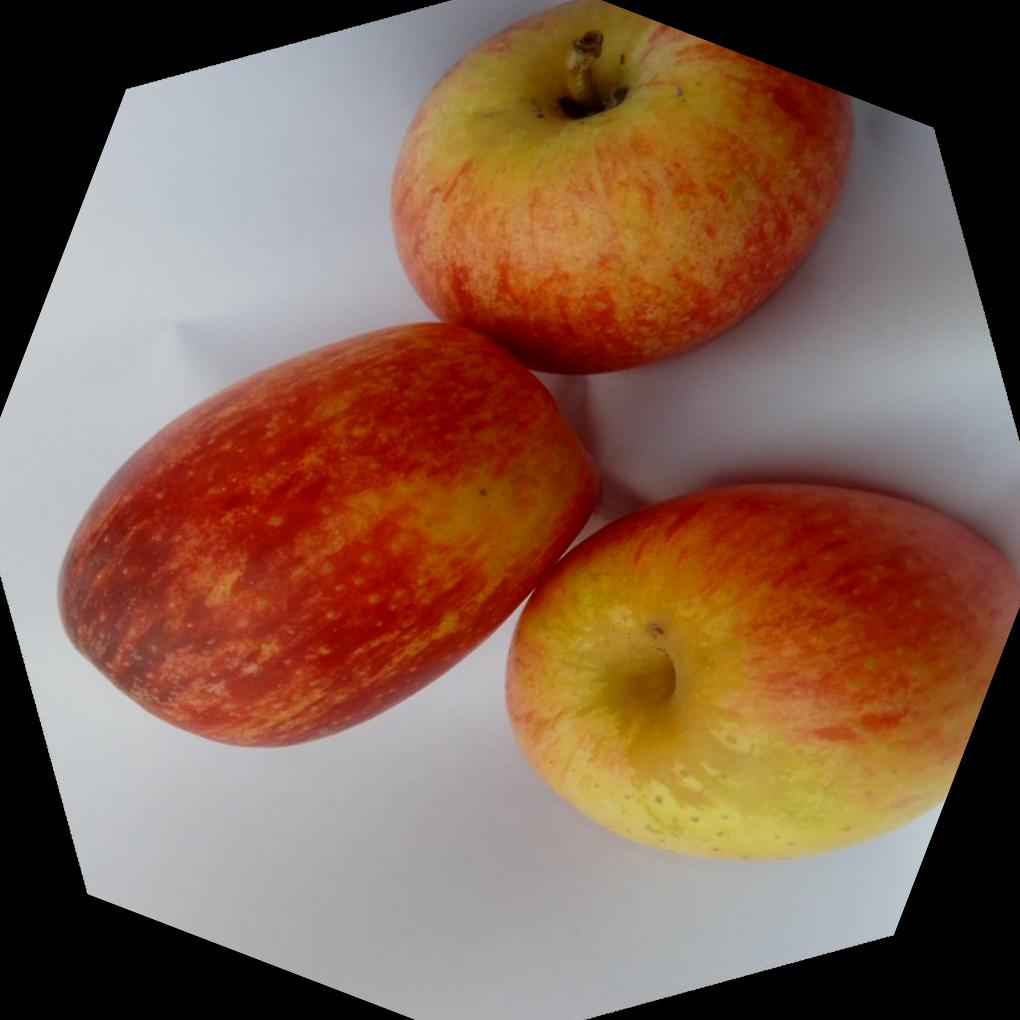FreshGuava: (57, 0, 1020, 861)
